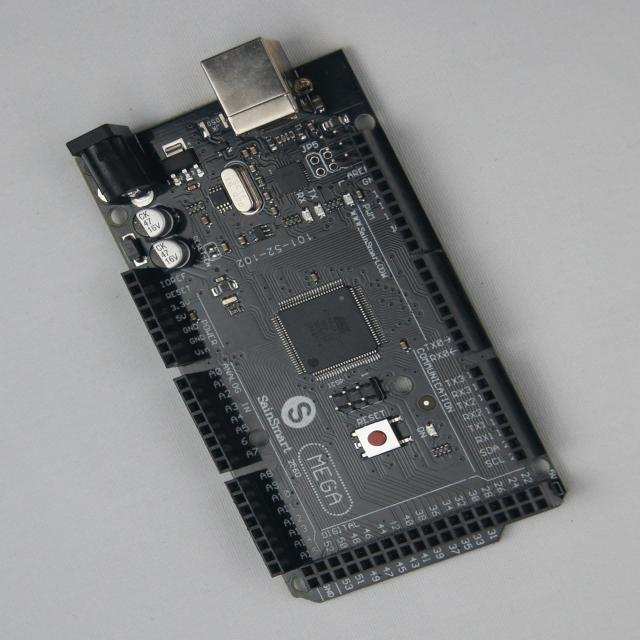Arduino Mega 2560 -Black-: (68, 39, 566, 603)
